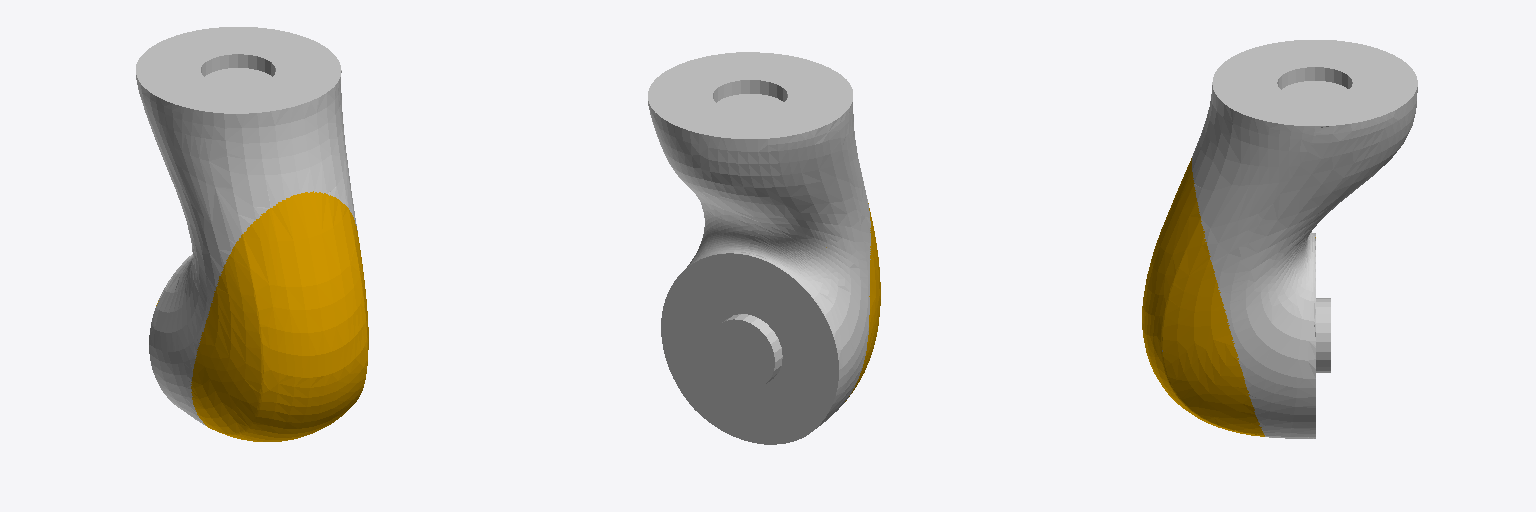
3 views of the same model, side by side, from view 1: azimuth 30°, elevation 25°; view 2: azimuth 150°, elevation 25°; view 3: azimuth 270°, elevation 25° (orthographic).
Parts seen in each view (by area): view 1: Link4_14_ShapeIndexedFaceSet.004; view 2: Link4_14_ShapeIndexedFaceSet.004; view 3: Link4_14_ShapeIndexedFaceSet.004.
Part boxes in pixels (bbox=[...]): Link4_14_ShapeIndexedFaceSet.004: bbox=[136, 27, 368, 441]; Link4_14_ShapeIndexedFaceSet.004: bbox=[648, 52, 880, 444]; Link4_14_ShapeIndexedFaceSet.004: bbox=[1142, 40, 1417, 438].
Size of the model in its own units: 0.136 by 0.2525 by 0.1825.
1 materials, 1 textured.